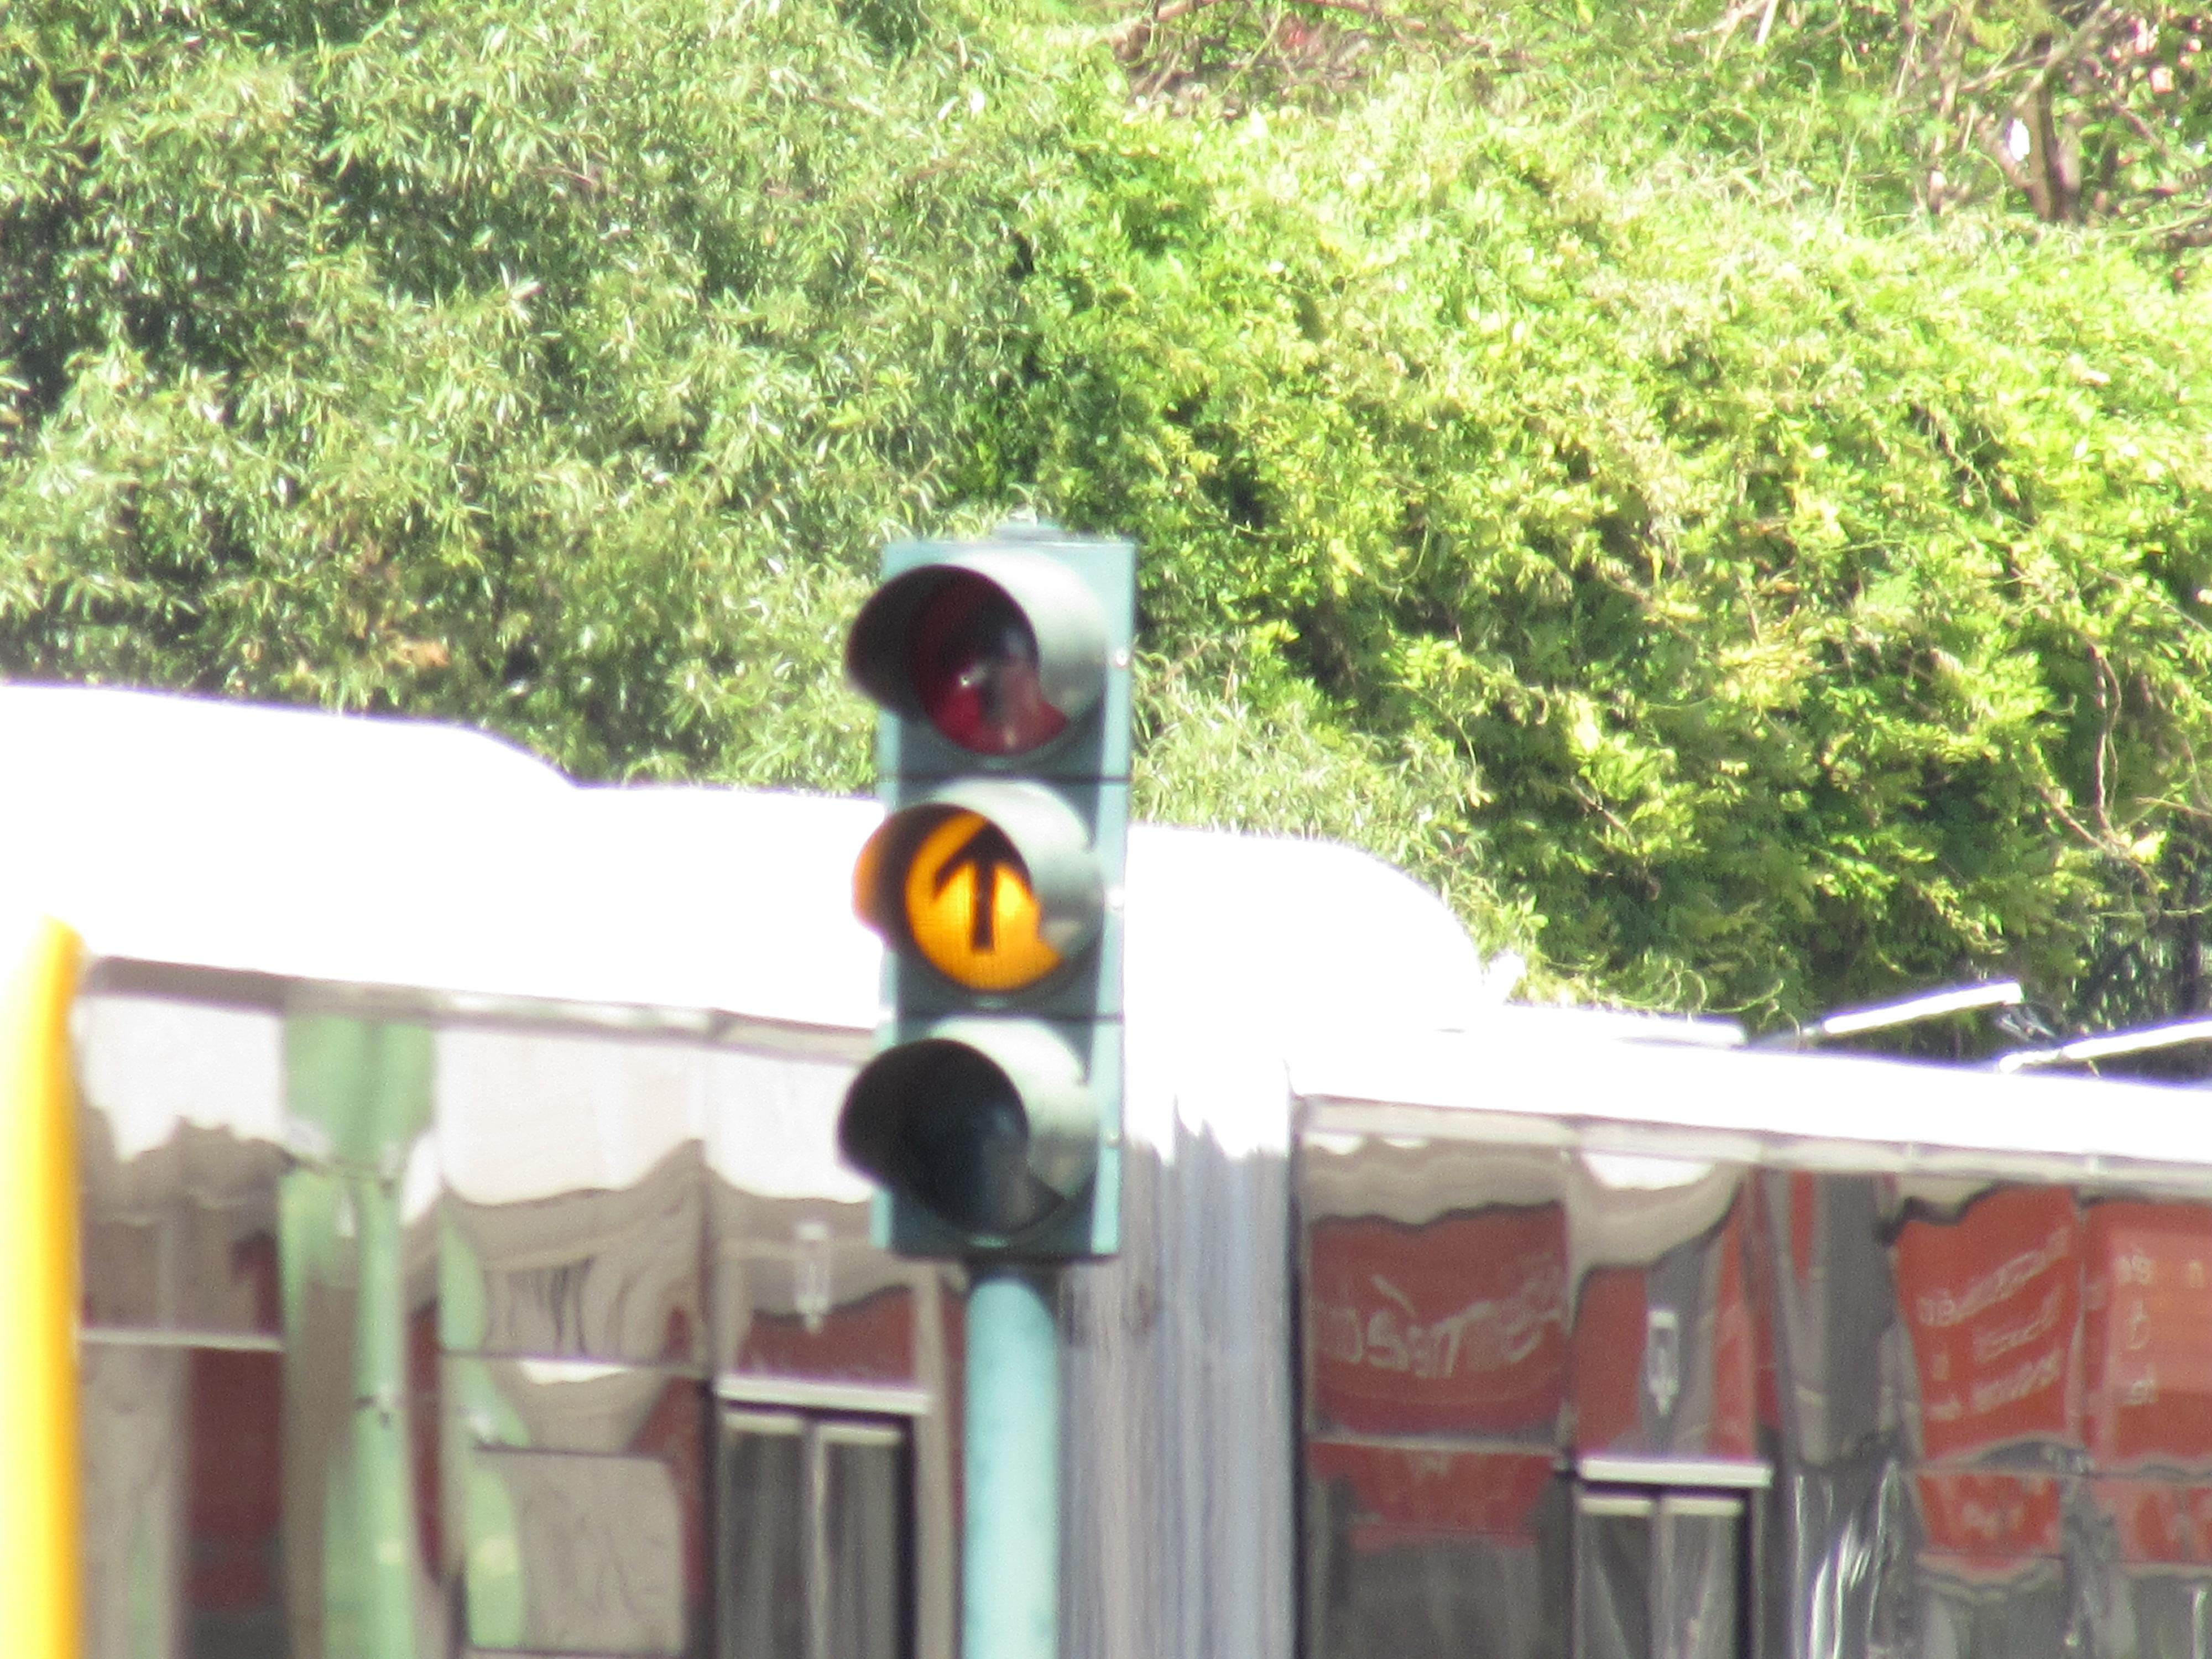yellow_light: (838, 537, 1136, 1262)
